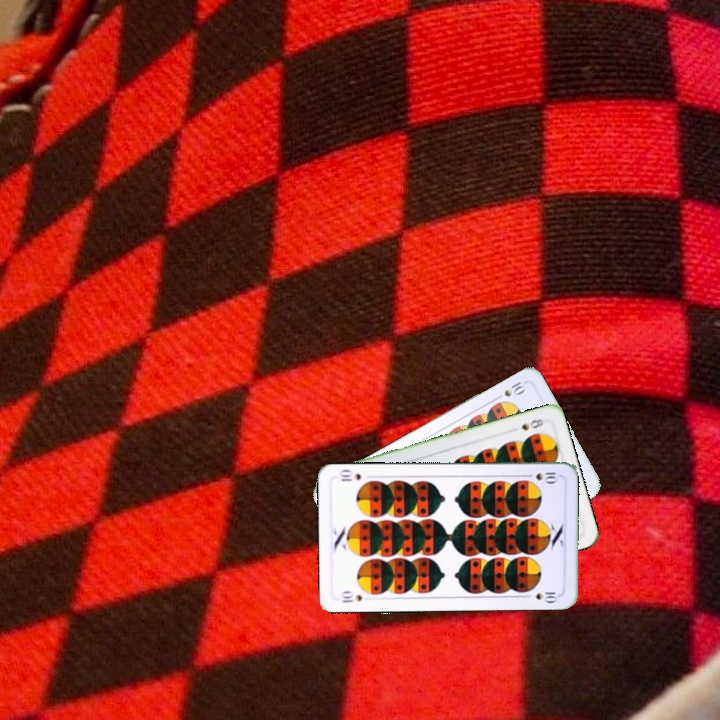S10: (490, 377, 529, 403), (521, 468, 560, 484), (338, 591, 364, 605)
S8: (517, 414, 547, 433)
